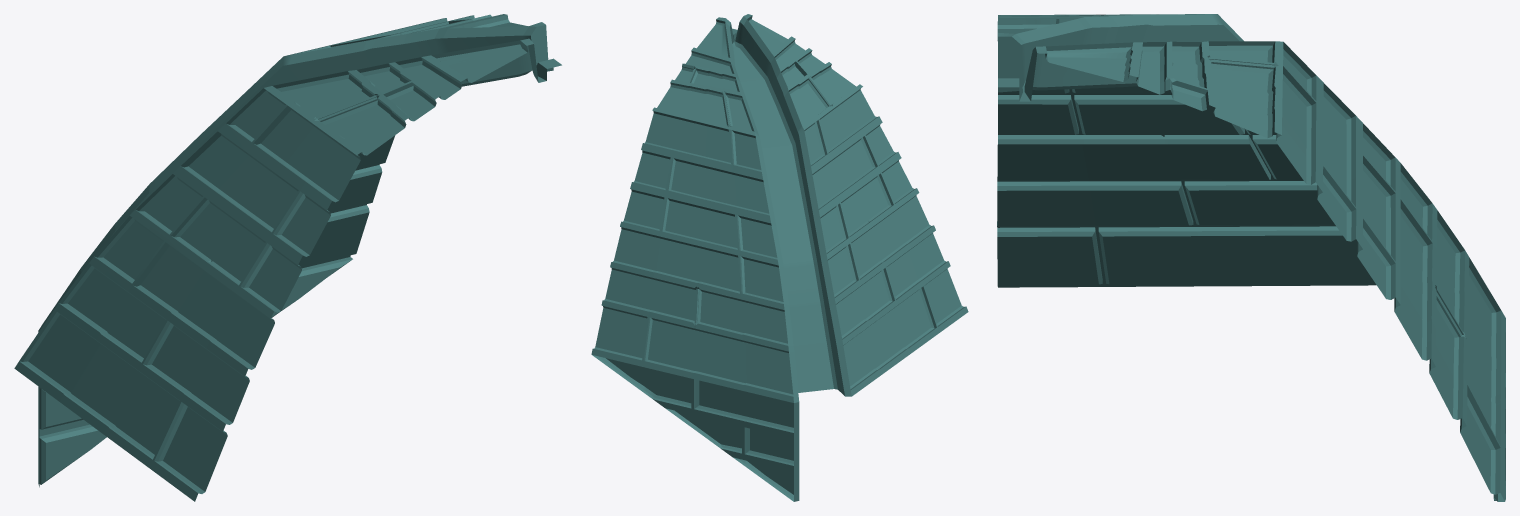
File: Brick_Corner_L.fbx
The picture shows the model from 3 angles, left to right: view 1: azimuth 30°, elevation 25°; view 2: azimuth 150°, elevation 25°; view 3: azimuth 270°, elevation 25°; orthographic projection. The views are drawn at different scales.
Visible parts, largest first — view 1: Brick_Corner_L; view 2: Brick_Corner_L; view 3: Brick_Corner_L.
Part boxes in pixels (box(x1,y1,x2,y2)): Brick_Corner_L: box(14, 14, 561, 501); Brick_Corner_L: box(591, 14, 968, 501); Brick_Corner_L: box(997, 14, 1505, 501).
Bounding box in the file's own units: 200 × 273 × 200.
